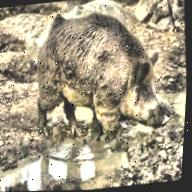boar: (27, 0, 183, 144)
